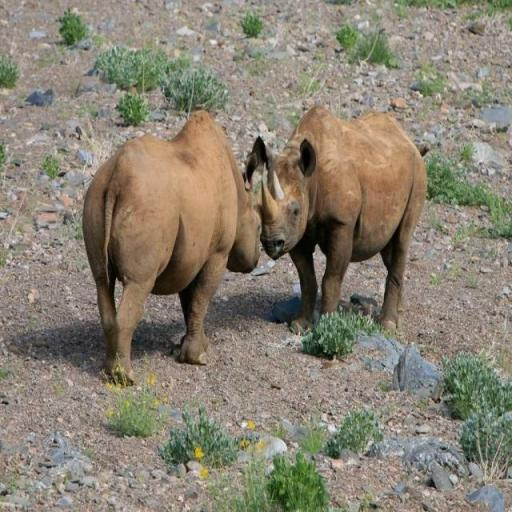Rhino: (81, 108, 264, 386), (244, 102, 430, 337)
